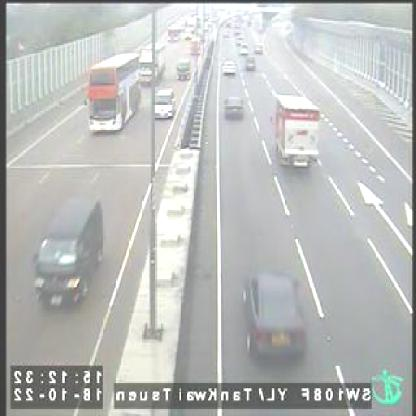Bus: (87, 53, 141, 134)
Car: (33, 195, 105, 313), (240, 270, 307, 360), (154, 86, 176, 119), (223, 93, 243, 120), (176, 59, 191, 81), (222, 61, 237, 76), (238, 42, 250, 56), (244, 56, 254, 71), (254, 42, 264, 54)
Truck: (271, 94, 320, 170), (138, 42, 167, 84)
